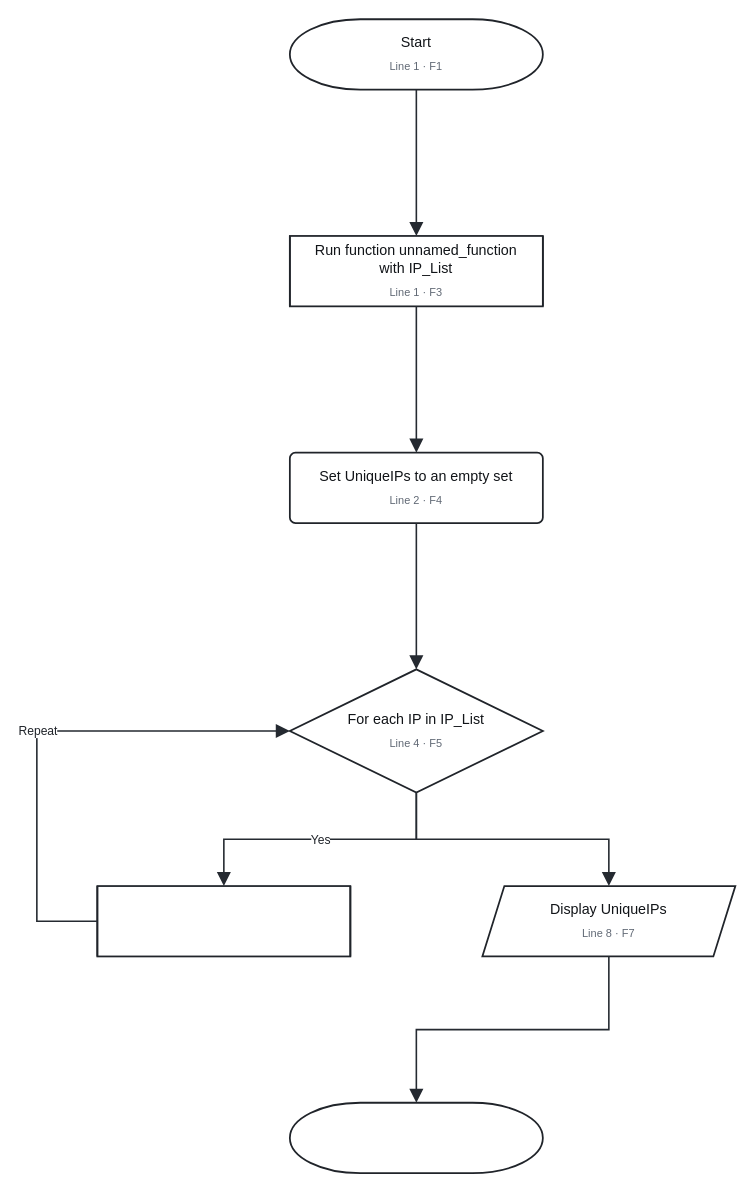
Image size: 756x1194. Some labels were removed from this diagram. Here are the shapes that lost their labels. From the top down, the centre of each, then its label:
the point at 223,921: Call add_to_set with UniqueIPs, IP Line 5 · F6
the point at 415,1137: End Line 1 · F2
